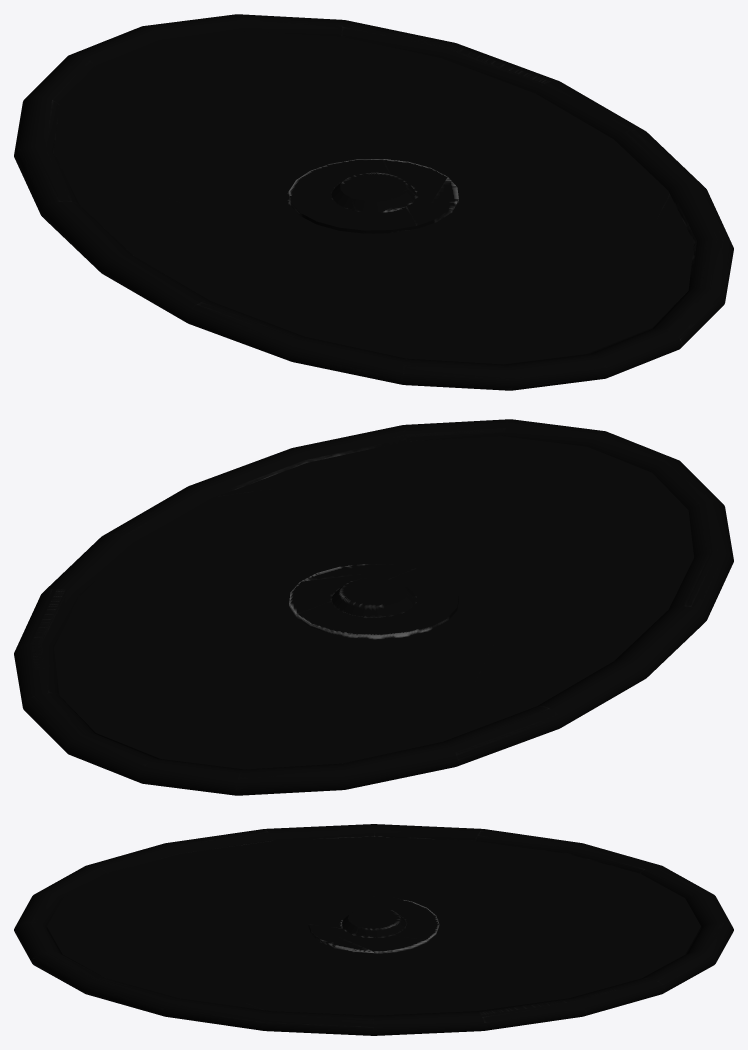
File: Shield.glb
3 views of the same model, one above another, from view 1: azimuth 30°, elevation 25°; view 2: azimuth 150°, elevation 25°; view 3: azimuth 270°, elevation 25° (orthographic). The views are drawn at different scales.
Visible parts, largest first — view 1: node_id3; view 2: node_id3; view 3: node_id3.
Part boxes in pixels (x1=…): node_id3: x1=14, y1=14, x2=733, y2=390; node_id3: x1=14, y1=419, x2=733, y2=795; node_id3: x1=14, y1=824, x2=733, y2=1035.
Size of the model in its own units: 0.512 by 0.0655 by 0.758.
1 material, 1 textured.
